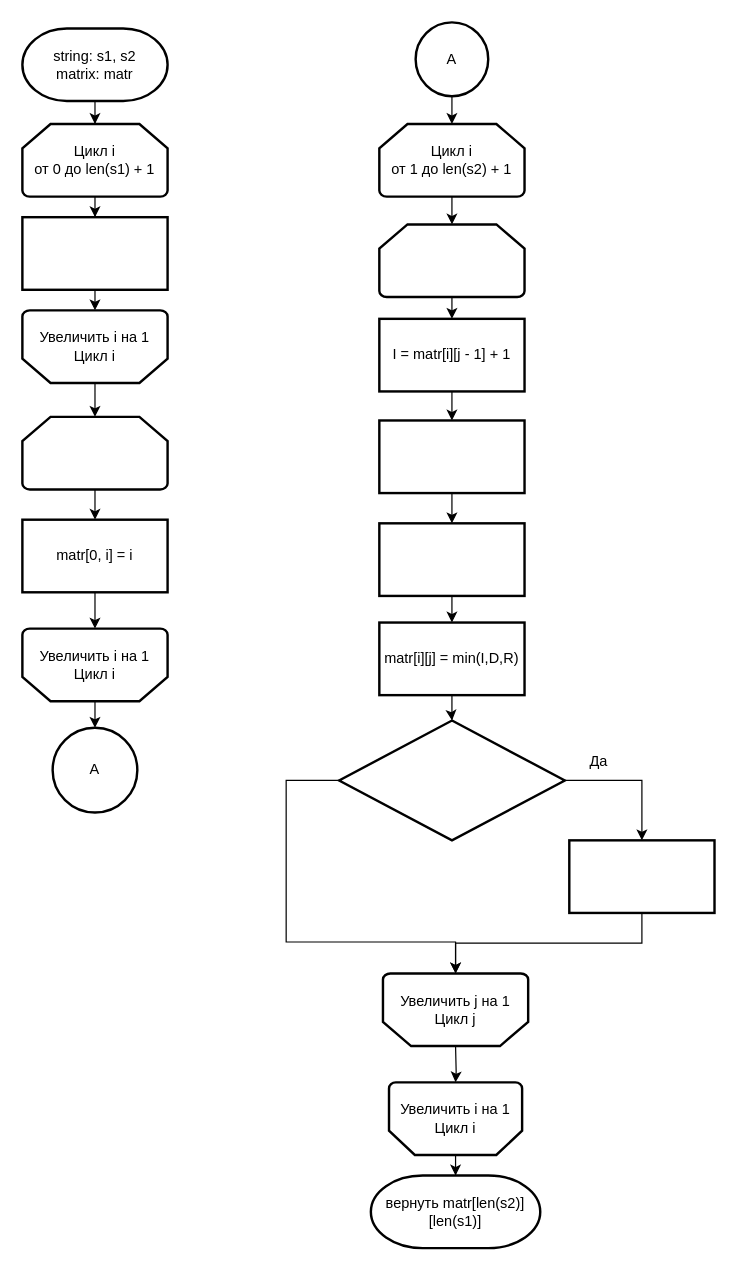
This 736x1269 diagram has some shape labels left out. Each missing label, with the box of its shape:
D = matr[i - 1][j] + 1: (378, 419, 525, 494)
i > 1 and j > 1 and s1[i - 1] == s2[j - 2] and s1[i - 2] == s2[j - 1]: (337, 719, 565, 841)
matr[i, 0] = i: (21, 215, 168, 290)
matr[i][j] = min(matr[i][j], matr[i - 2][j - 2]): (567, 839, 715, 914)
R = matr[i - 1][j - 1] + (s1[j - 1] != s2[i - 1]) ? 1 : 0: (378, 522, 525, 597)
Цикл i от 0 до len(s2) + 1: (21, 415, 168, 490)
Цикл j от 0 до len(s1) + 1: (378, 223, 525, 298)
